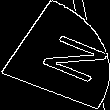N_NW: (13, 25, 98, 85)
